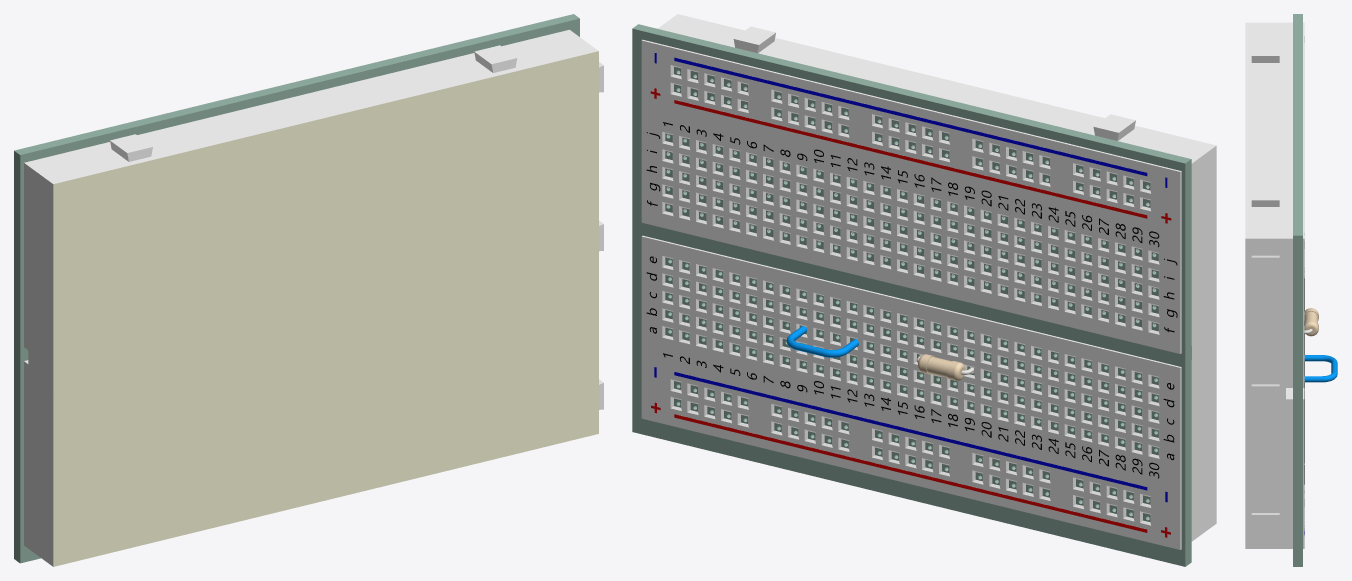
Rendered from breadboard (1).fbx.
3 renders of one model, left to right at view 1: azimuth 30°, elevation 25°; view 2: azimuth 150°, elevation 25°; view 3: azimuth 270°, elevation 25°, orthographic. The views are drawn at different scales.
Parts seen in each view (by area): view 1: imagetostl_mesh12, imagetostl_mesh2, imagetostl_mesh6, imagetostl_mesh5, imagetostl_mesh7; view 2: imagetostl_mesh2, imagetostl_mesh6, imagetostl_mesh5, imagetostl_mesh7, imagetostl_mesh15, imagetostl_mesh13, imagetostl_mesh0, imagetostl_mesh1, imagetostl_mesh3, imagetostl_mesh10, imagetostl_mesh9; view 3: imagetostl_mesh2, imagetostl_mesh6, imagetostl_mesh7, imagetostl_mesh9, imagetostl_mesh10, imagetostl_mesh5.
Part boxes in pixels (box(x1,y1,x2,y2)): imagetostl_mesh12: box(53, 51, 598, 566); imagetostl_mesh2: box(24, 29, 598, 566); imagetostl_mesh6: box(14, 14, 579, 563); imagetostl_mesh5: box(24, 58, 603, 563); imagetostl_mesh7: box(110, 45, 603, 384); imagetostl_mesh2: box(641, 14, 1216, 549); imagetostl_mesh6: box(632, 24, 1191, 566); imagetostl_mesh5: box(642, 65, 1212, 549); imagetostl_mesh7: box(650, 26, 1173, 468); imagetostl_mesh15: box(650, 88, 1171, 537); imagetostl_mesh13: box(654, 53, 1167, 502); imagetostl_mesh0: box(663, 122, 1075, 437); imagetostl_mesh1: box(646, 132, 1177, 470); imagetostl_mesh3: box(663, 215, 1159, 478); imagetostl_mesh10: box(917, 354, 965, 380); imagetostl_mesh9: box(786, 326, 858, 357); imagetostl_mesh2: box(1245, 22, 1304, 548); imagetostl_mesh6: box(1293, 14, 1302, 566); imagetostl_mesh7: box(1251, 35, 1304, 536); imagetostl_mesh9: box(1304, 355, 1337, 382); imagetostl_mesh10: box(1304, 308, 1318, 336); imagetostl_mesh5: box(1286, 388, 1304, 530).
Size of the model in its own units: 8382 by 5852 by 1474.
